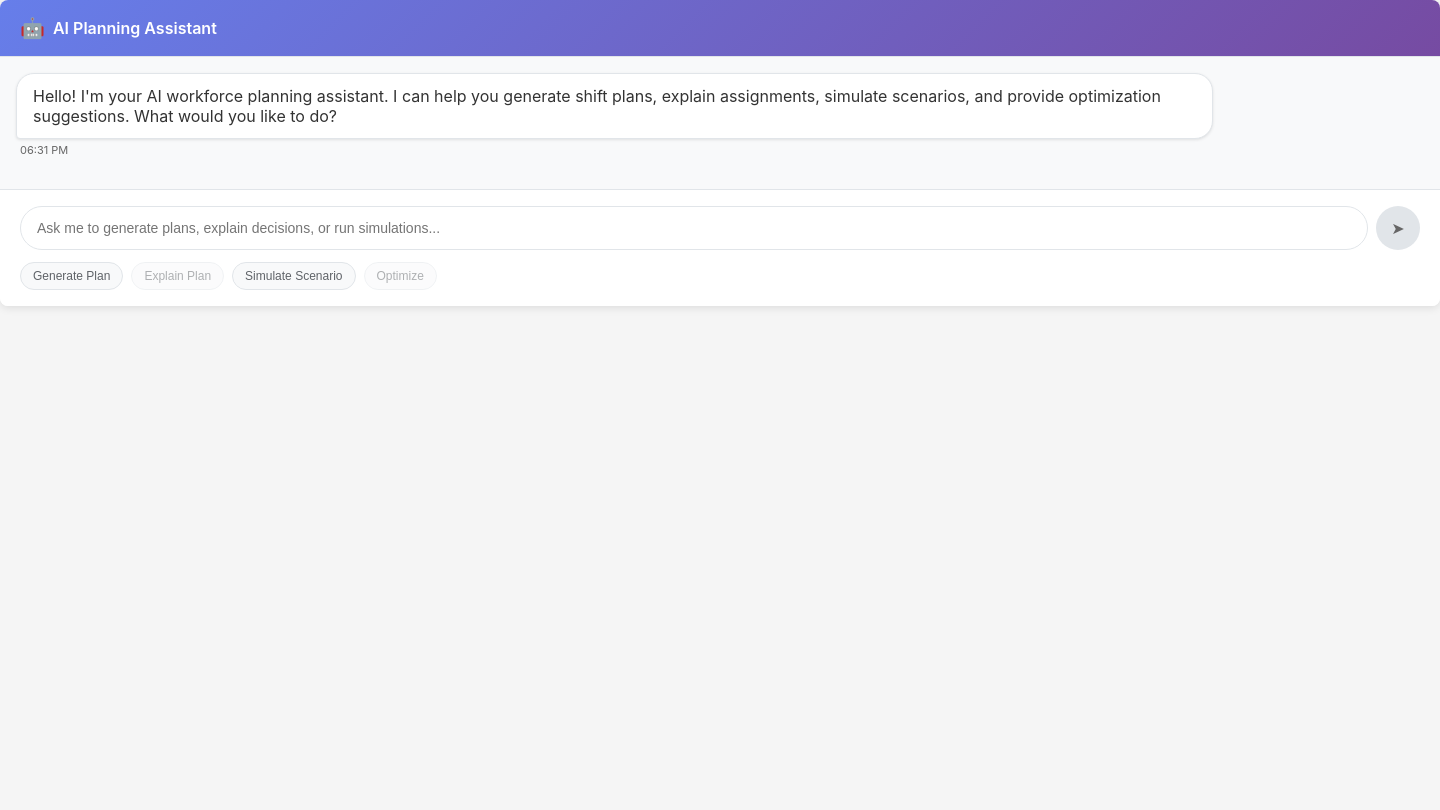
it: AIAssistant › handles help request
Replace the text in the field with placeholder "Ask me to generate plans" with "help" at (694, 228), box left=20, top=206, right=1368, bottom=250
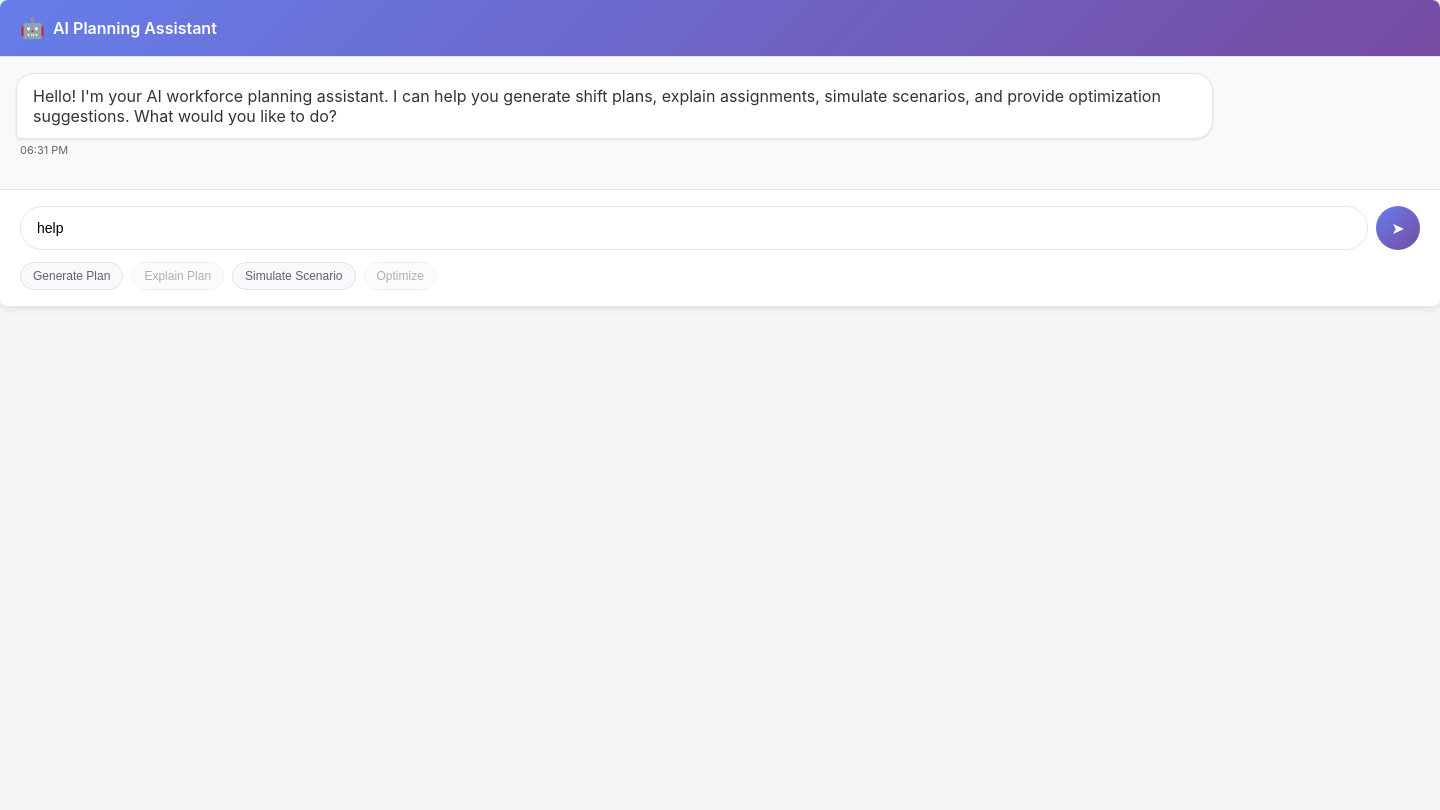
Click the button "➤".
click(1398, 228)  # box left=1376, top=206, right=1420, bottom=250
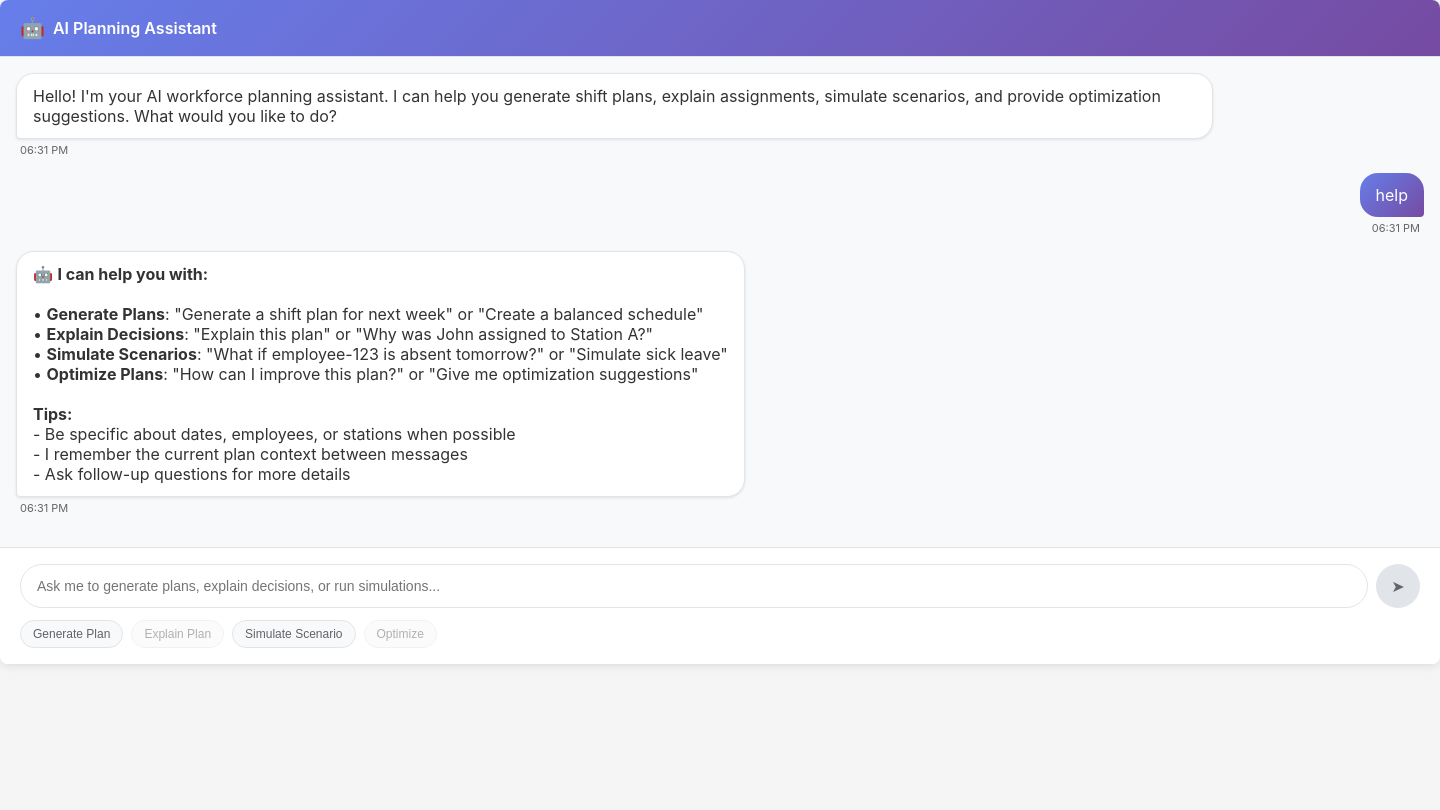
expect the text "I can help you with:" is shown: met, box left=58, top=264, right=208, bottom=284
expect the text "Generate Plans" is shown: met, box left=46, top=304, right=165, bottom=324
expect the text "Explain Decisions" is shown: met, box left=46, top=324, right=184, bottom=344
